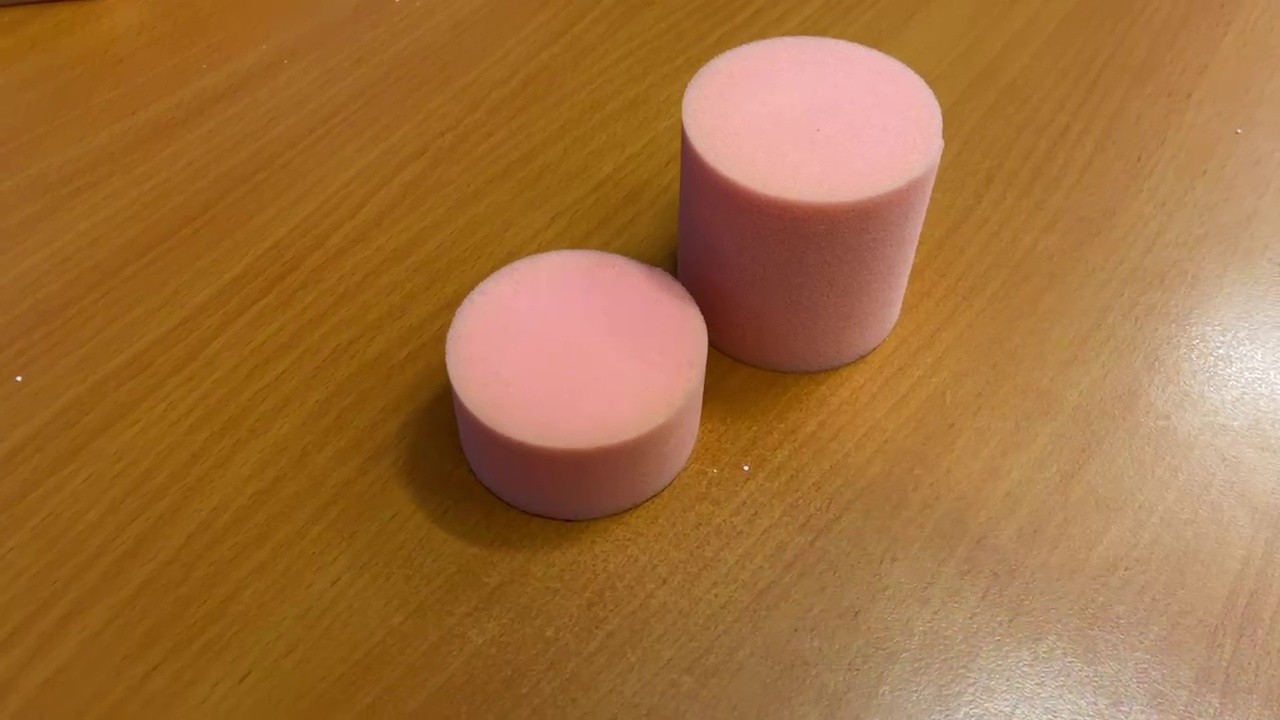Clyinder_short: (435, 241, 712, 524)
Cylinder: (662, 34, 948, 376)
